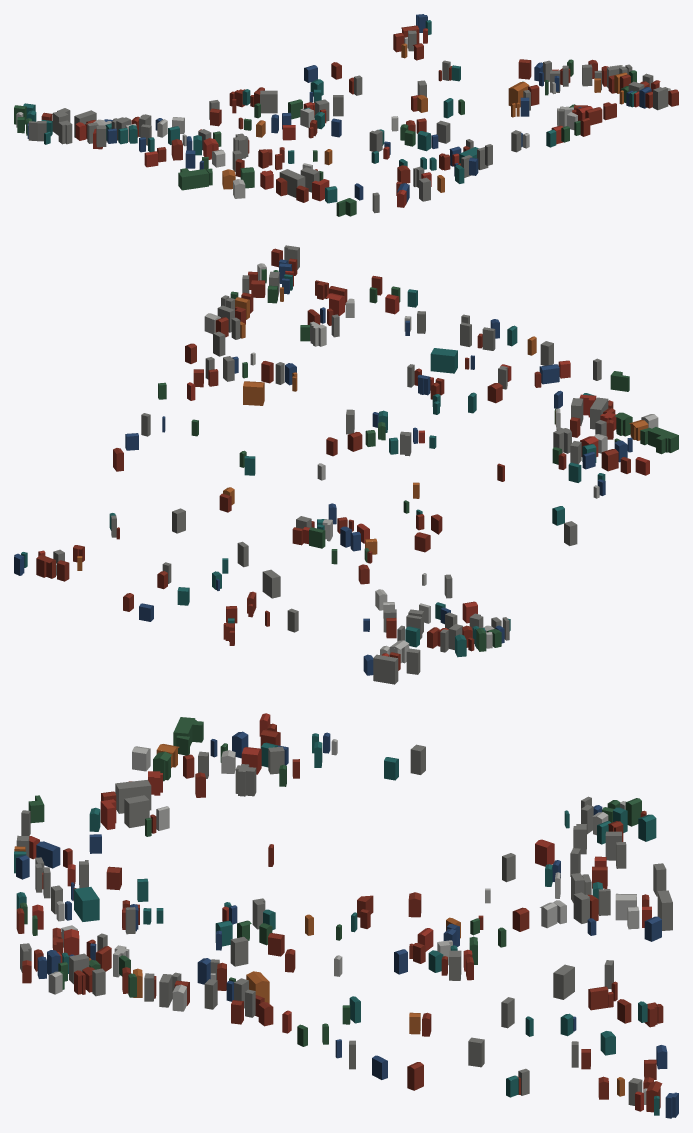
File: near-16-54723-29728.62f65f57.glb
The picture shows the model from 3 angles, top to bottom: view 1: azimuth 30°, elevation 25°; view 2: azimuth 150°, elevation 25°; view 3: azimuth 270°, elevation 25°; orthographic projection. The views are drawn at different scales.
Bounding box in the file's own units: 600 × 191 × 593.
